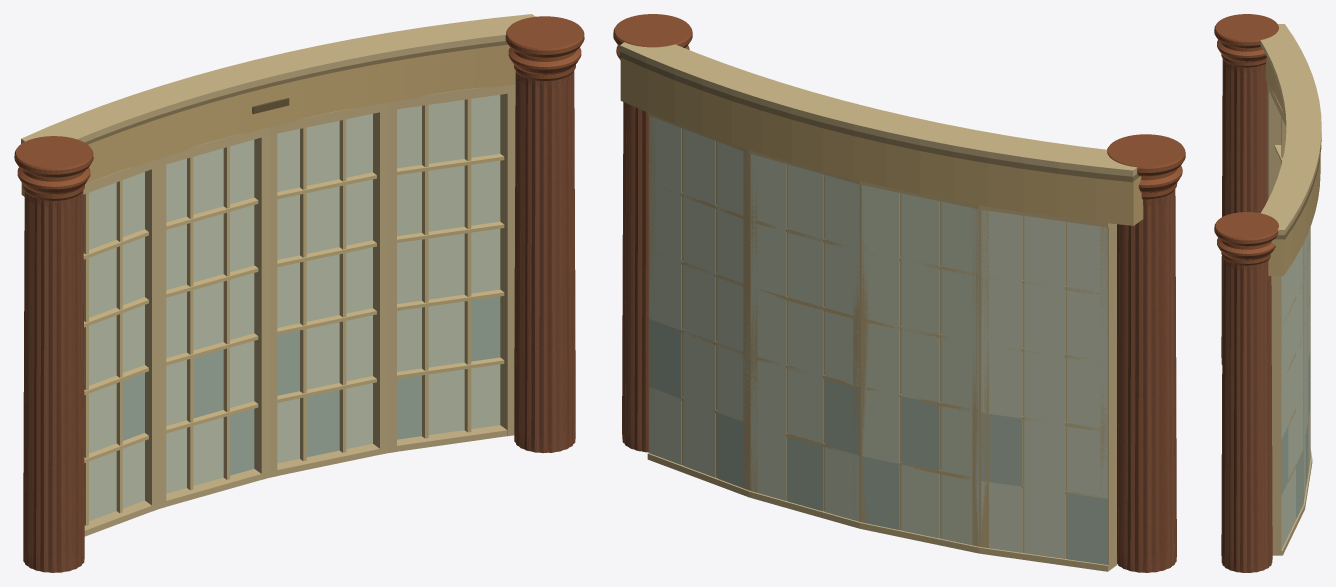
Rendered from changning-zhou-residence-curved-window-hall-lod.glb.
The picture shows the model from 3 angles, left to right: view 1: azimuth 30°, elevation 25°; view 2: azimuth 150°, elevation 25°; view 3: azimuth 270°, elevation 25°; orthographic projection. The views are drawn at different scales.
Parts seen in each view (by area): view 1: 周氏花园住宅弧窗厅木圆柱与格扇; view 2: 周氏花园住宅弧窗厅木圆柱与格扇; view 3: 周氏花园住宅弧窗厅木圆柱与格扇.
Boxes of the visible parts, x1,y1,x2,y2 form: 周氏花园住宅弧窗厅木圆柱与格扇: [14, 14, 584, 572]; 周氏花园住宅弧窗厅木圆柱与格扇: [613, 14, 1185, 572]; 周氏花园住宅弧窗厅木圆柱与格扇: [1214, 14, 1321, 572].
Bounding box in the file's own units: 4.47 × 3.11 × 0.8991.
9 materials, 1 textured.
